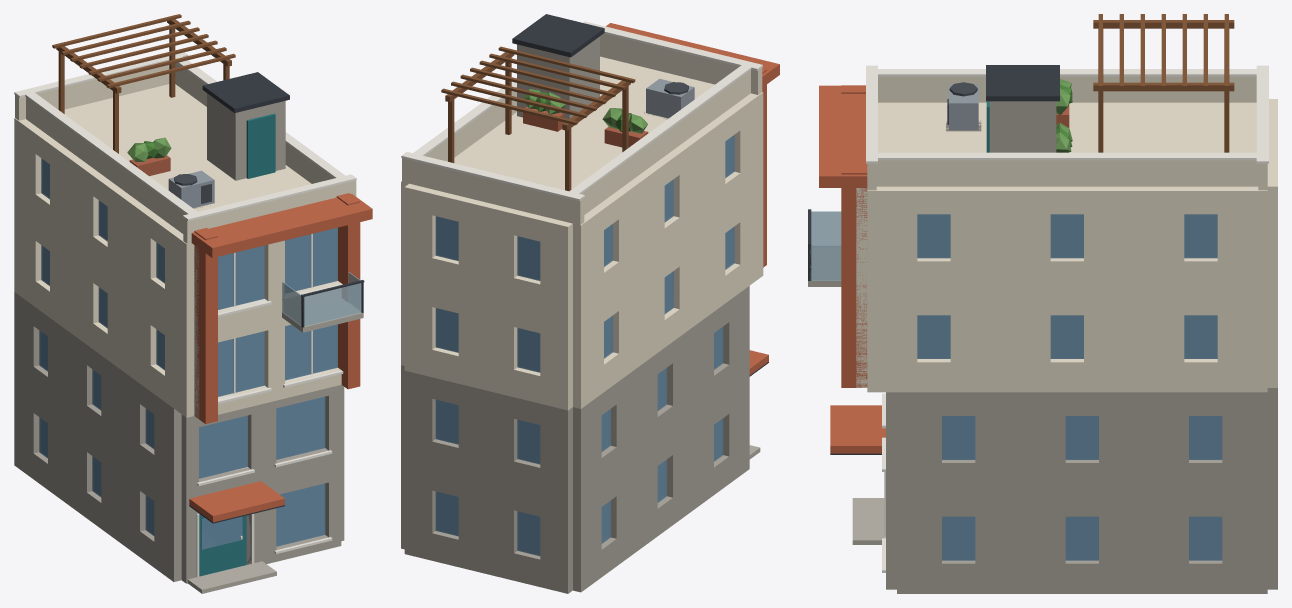
The model's file is BUILDING_02.obj.
3 views of the same model, side by side, from view 1: azimuth 30°, elevation 25°; view 2: azimuth 150°, elevation 25°; view 3: azimuth 270°, elevation 25° (orthographic). The views are drawn at different scales.
Visible parts, largest first — view 1: walls_floor01, walls_floor03, walls_floor00, roof, walls_floor02, fins, walls_core, roof_equipment, windows_floor03, windows_floor02, windows_floor01, pergola (+6 smaller); view 2: walls_floor03, walls_floor01, walls_floor02, walls_floor00, roof, walls_core, pergola, roof_equipment, windows_floor00, windows_floor02, windows_floor01, windows_floor03 (+2 smaller); view 3: walls_floor03, walls_floor01, walls_floor02, walls_floor00, roof, walls_core, fins, roof_equipment, pergola, windows_floor01, windows_floor00, windows_floor03 (+5 smaller).
Boxes of the visible parts, box(x1,y1,x2,y2) form: walls_floor01: box(14, 292, 344, 516); walls_floor03: box(14, 118, 341, 351); walls_floor00: box(14, 399, 344, 583); roof: box(14, 52, 356, 243); walls_floor02: box(14, 225, 341, 418); fins: box(191, 193, 372, 423); walls_core: box(64, 84, 311, 211); roof_equipment: box(168, 72, 289, 208); windows_floor03: box(41, 158, 342, 317); windows_floor02: box(41, 245, 343, 404); windows_floor01: box(39, 330, 332, 486); pergola: box(52, 14, 235, 153); walls_floor03: box(401, 92, 763, 339); walls_floor01: box(401, 286, 749, 523); walls_floor02: box(401, 205, 763, 410); walls_floor00: box(401, 399, 749, 593); roof: box(401, 21, 762, 225); walls_core: box(454, 56, 714, 190); pergola: box(441, 46, 635, 191); roof_equipment: box(512, 14, 694, 122); windows_floor00: box(435, 418, 723, 556); windows_floor02: box(435, 226, 734, 372); windows_floor01: box(435, 326, 723, 464); windows_floor03: box(435, 135, 734, 280); walls_floor03: box(856, 99, 1277, 315); walls_floor01: box(886, 388, 1277, 516); walls_floor02: box(856, 304, 1277, 392); walls_floor00: box(886, 512, 1277, 593); roof: box(866, 65, 1268, 190); walls_core: box(878, 102, 1256, 152); fins: box(819, 85, 867, 387); roof_equipment: box(946, 65, 1059, 152); pergola: box(1093, 14, 1234, 152); windows_floor01: box(882, 393, 1222, 471); windows_floor00: box(882, 516, 1222, 572); windows_floor03: box(917, 214, 1217, 258).
Size of the model in its own units: 6.16 by 14.76 by 12.68.
